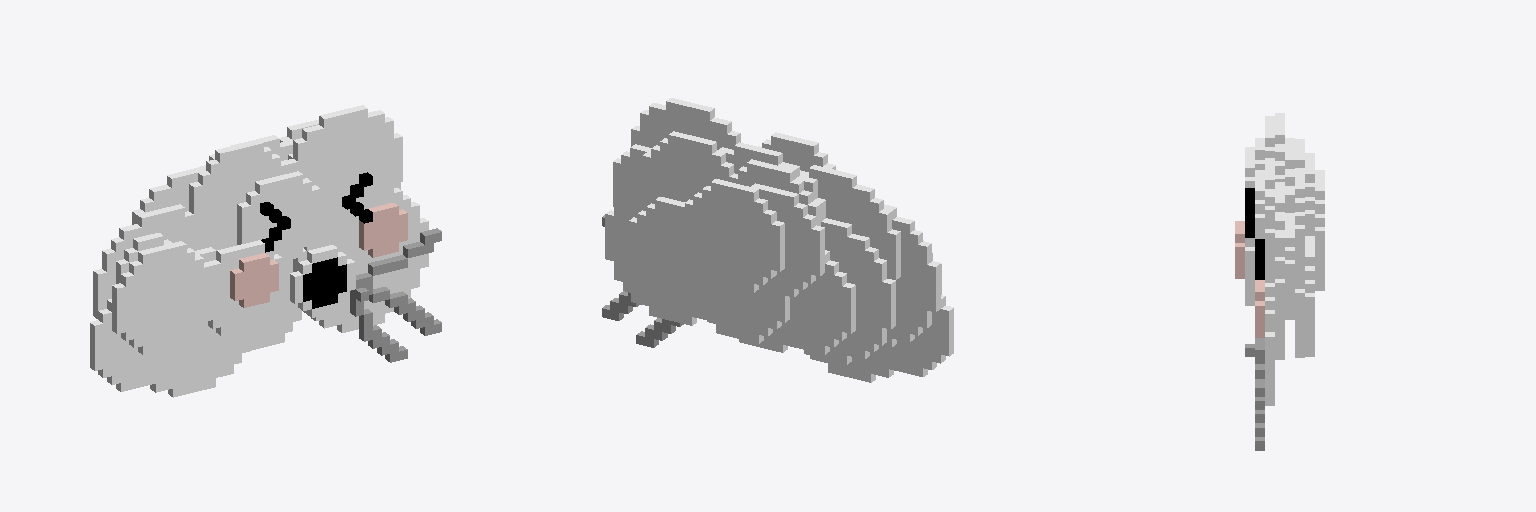
The picture shows the model from 3 angles: view 1: azimuth 30°, elevation 25°; view 2: azimuth 150°, elevation 25°; view 3: azimuth 270°, elevation 25°; orthographic projection.
Visible parts, largest first — view 1: object 1; view 2: object 1; view 3: object 1.
Part boxes in pixels (left/top/right/bottom): object 1: left=90, top=105, right=441, bottom=397; object 1: left=602, top=98, right=953, bottom=382; object 1: left=1235, top=113, right=1324, bottom=450.
Size of the model in its own units: 4 by 2.8 by 0.9.
Materials: 1 (1 with a texture image).